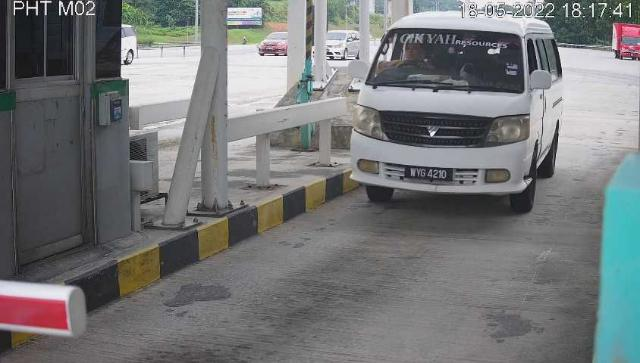License_Plate: (404, 167, 456, 186)
van: (351, 11, 564, 216)
